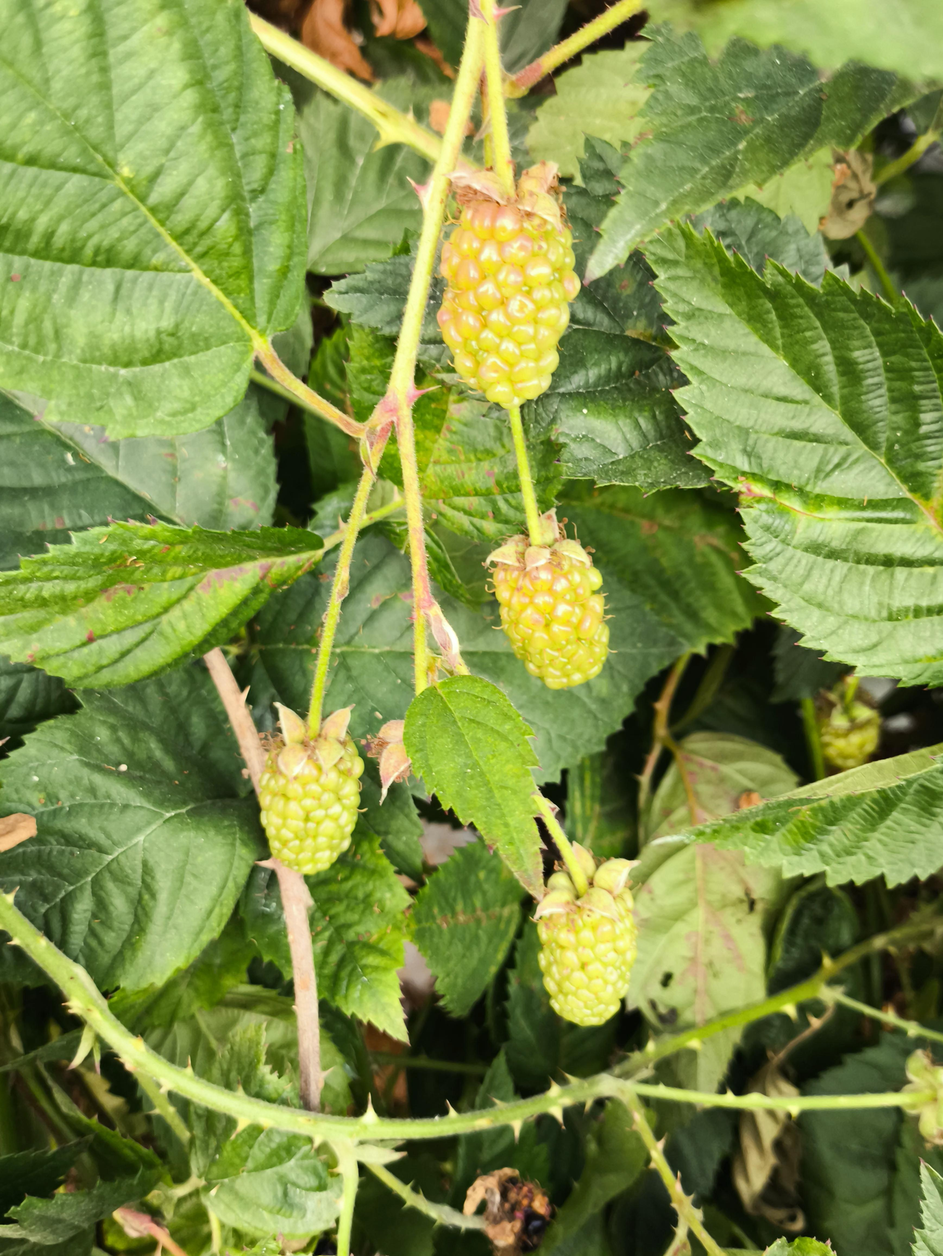verde: (437, 169, 579, 415), (489, 533, 609, 689), (534, 844, 636, 1026), (260, 737, 363, 875)
